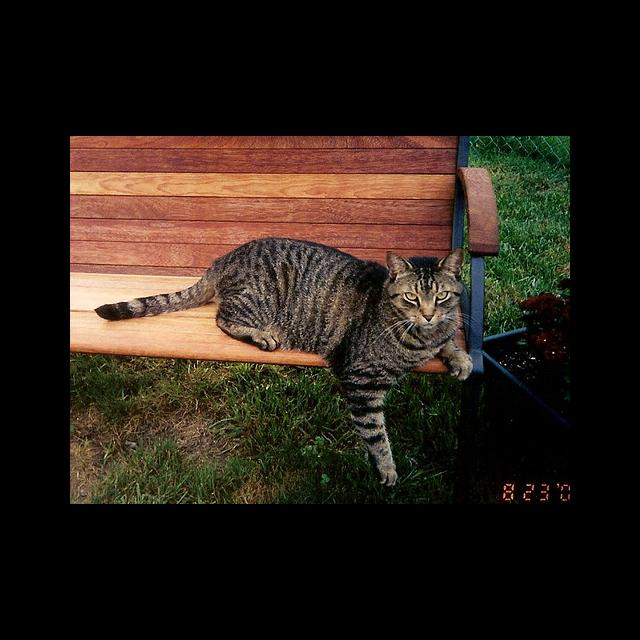animals: (388, 247, 460, 320)
